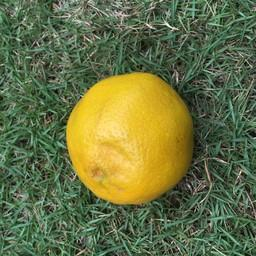Good_orange: (64, 66, 195, 208)
